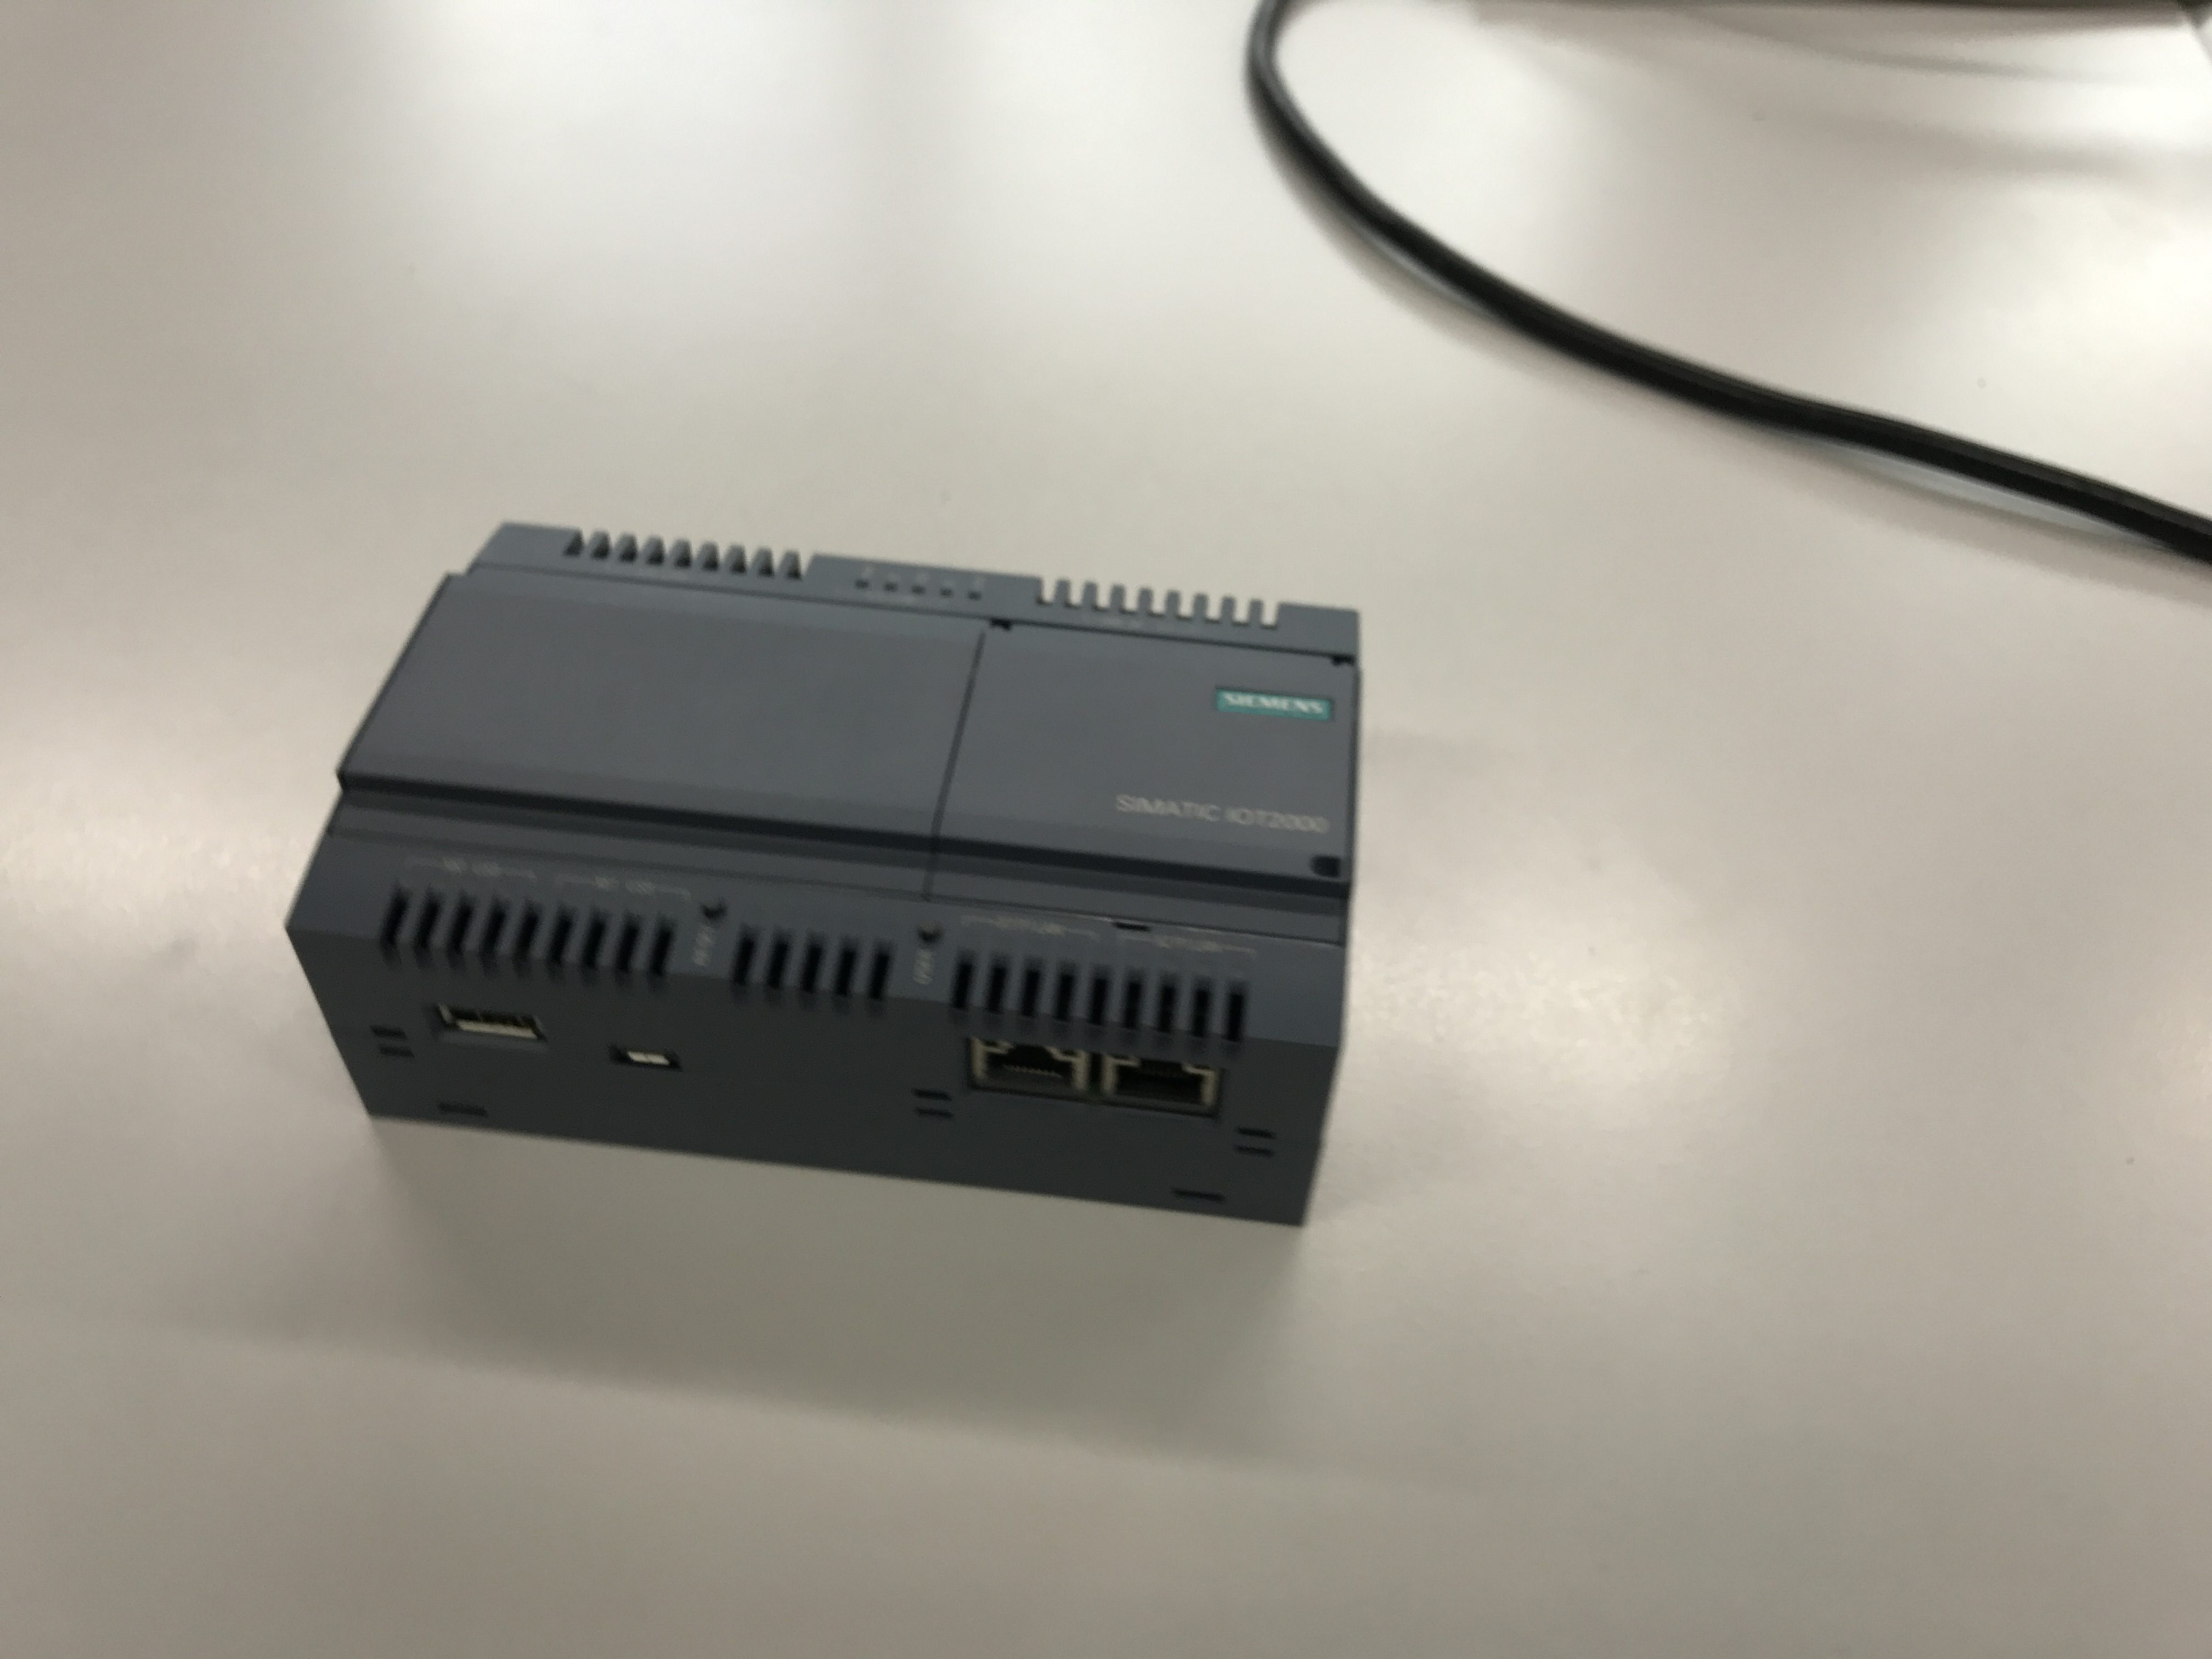device: (284, 519, 1366, 1230)
